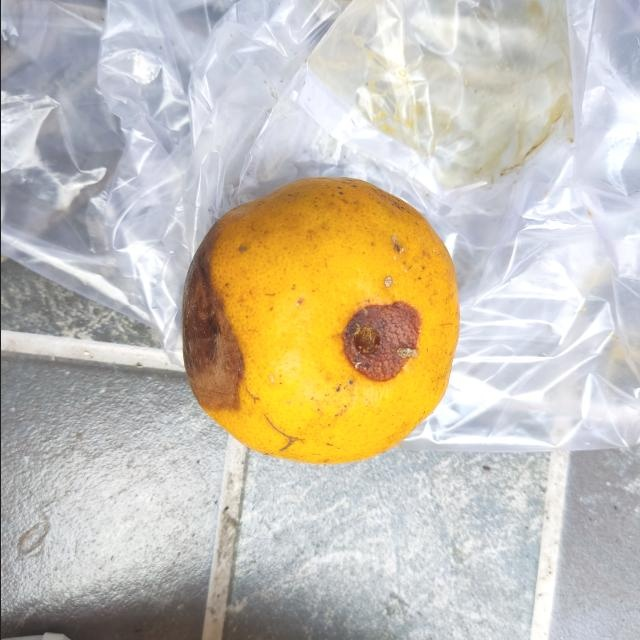agrume: (176, 174, 464, 471)
